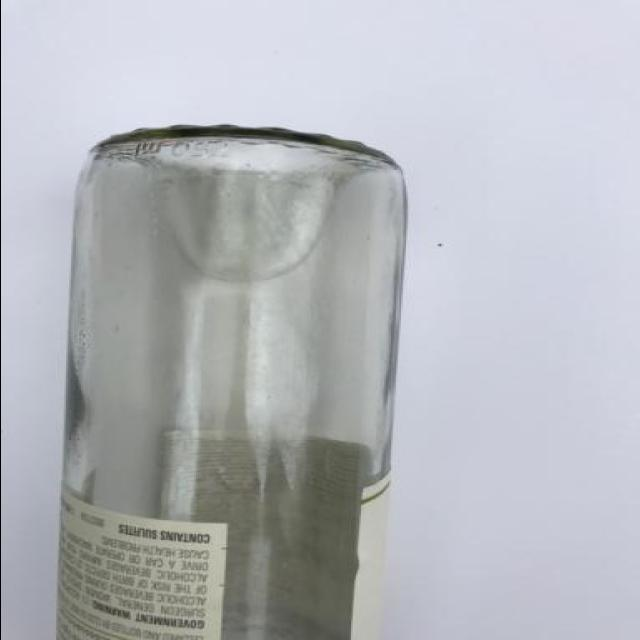litter: (48, 124, 420, 638)
